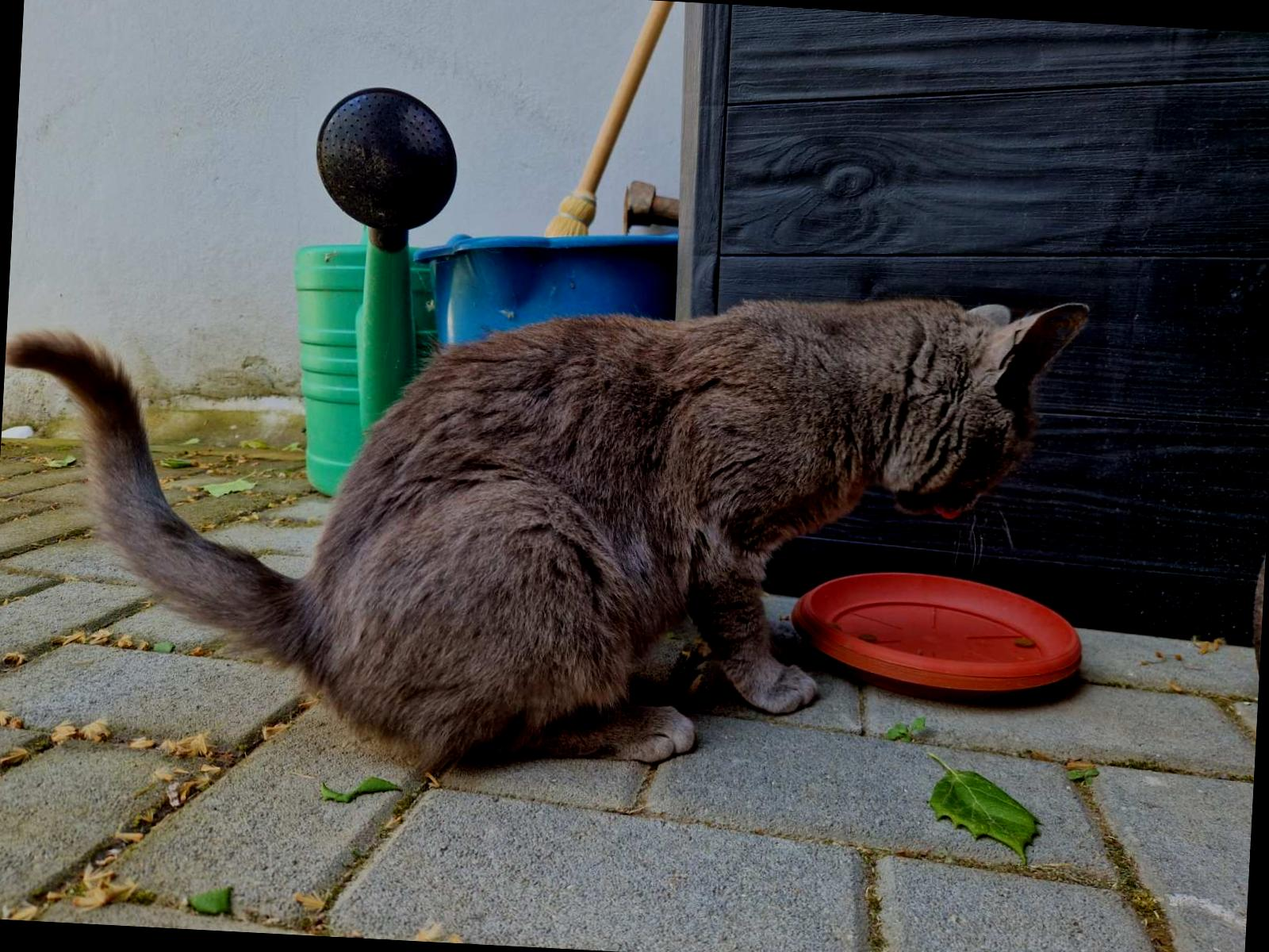macka: (0, 243, 1094, 794)
